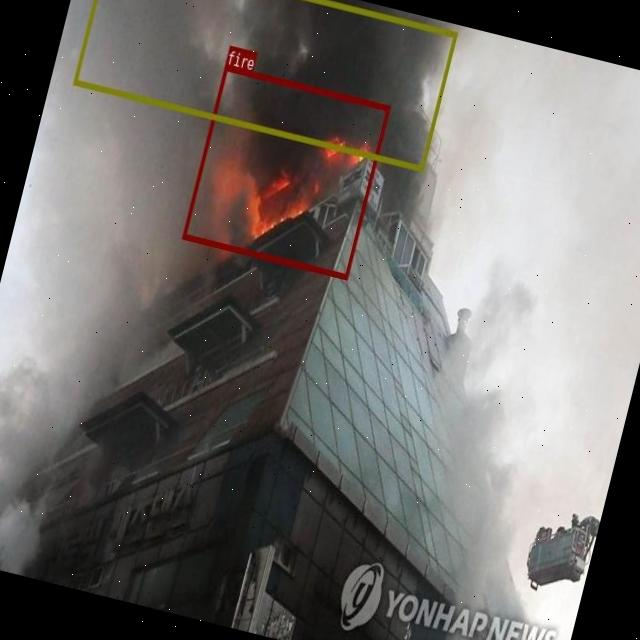fire: (181, 64, 389, 279)
smoke: (72, 0, 457, 170)
